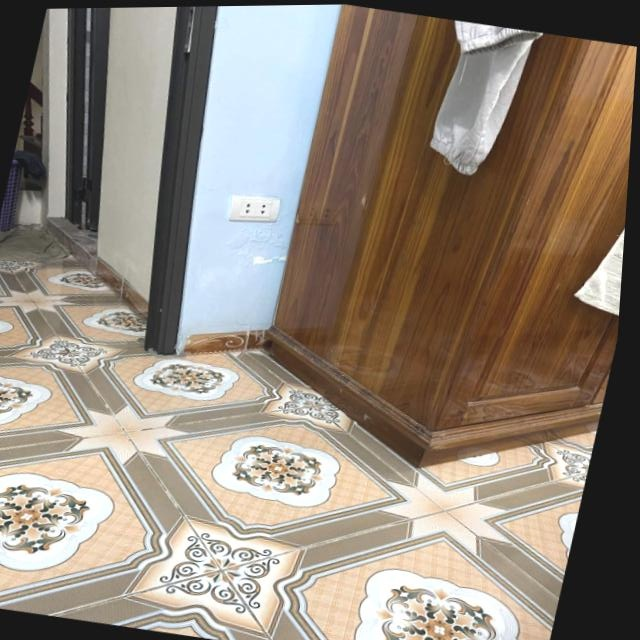outlet: (227, 190, 283, 228)
